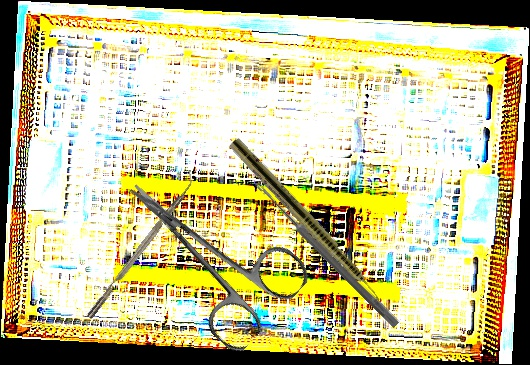Chopper: (79, 169, 202, 320)
Handpiece: (226, 136, 394, 315)
Iris Scissors: (96, 142, 316, 358)
Surgical Spoon: (252, 180, 401, 328)
